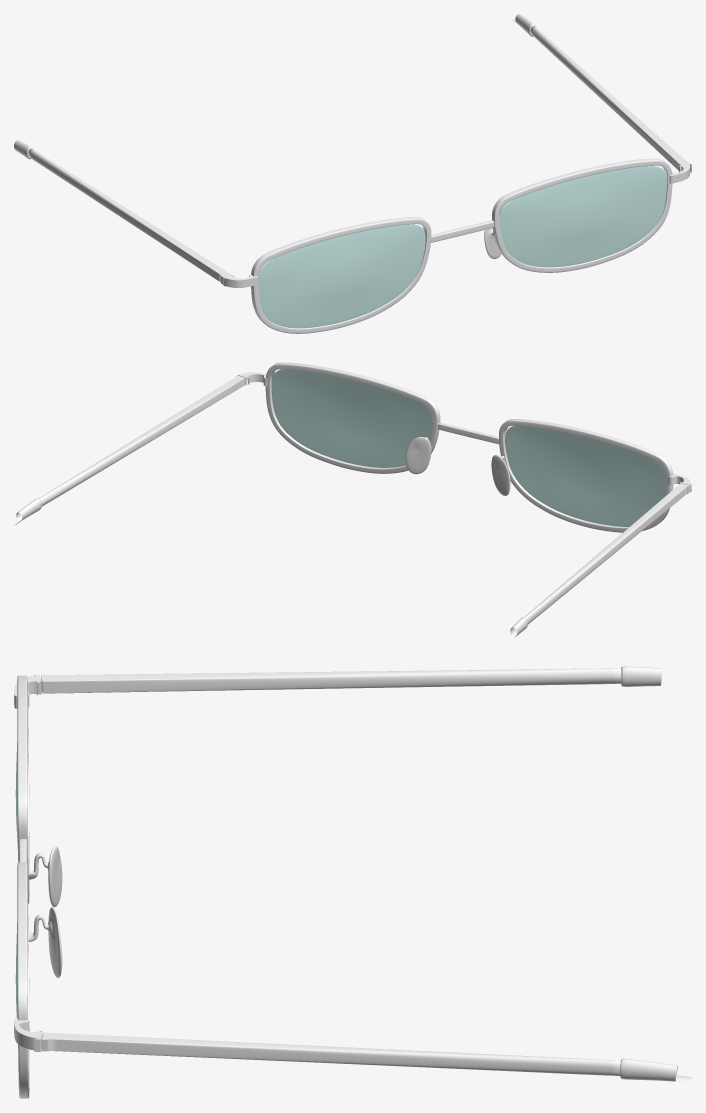
File: rectangle_eyeglasses.glb
3 renders of one model, top to bottom at view 1: azimuth 30°, elevation 25°; view 2: azimuth 150°, elevation 25°; view 3: azimuth 270°, elevation 25°, orthographic. The views are drawn at different scales.
Visible parts, largest first — view 1: main, right, left_ear; view 2: main, left_ear, right; view 3: left_ear, right, main.
Part boxes in pixels (x1,y1,x2,y2): main: [225, 158, 690, 333]; right: [14, 140, 232, 286]; left_ear: [513, 14, 691, 172]; main: [241, 362, 690, 532]; left_ear: [14, 374, 247, 525]; right: [510, 482, 691, 637]; left_ear: [34, 1032, 691, 1082]; right: [34, 666, 661, 694]; main: [14, 675, 62, 1098].
Bounding box in the file's own units: 2.22 × 0.4026 × 1.59.
Materials: 2 (1 with a texture image).
